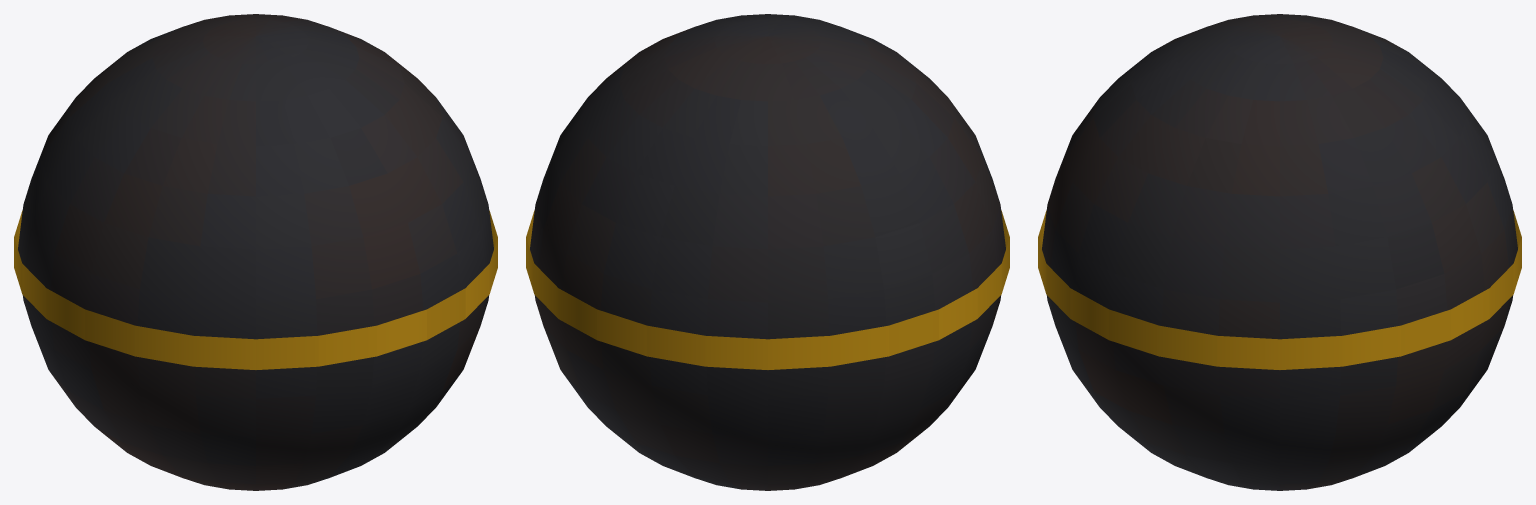
File: ballast_shot.glb
3 views of the same model, side by side, from view 1: azimuth 30°, elevation 25°; view 2: azimuth 150°, elevation 25°; view 3: azimuth 270°, elevation 25° (orthographic).
Parts seen in each view (by area): view 1: Mesh; view 2: Mesh; view 3: Mesh.
Part boxes in pixels (left/top/right/bottom): Mesh: left=14, top=14, right=497, bottom=490; Mesh: left=526, top=14, right=1009, bottom=490; Mesh: left=1038, top=14, right=1521, bottom=490.
Bounding box in the file's own units: 0.71 × 0.7 × 0.71.
